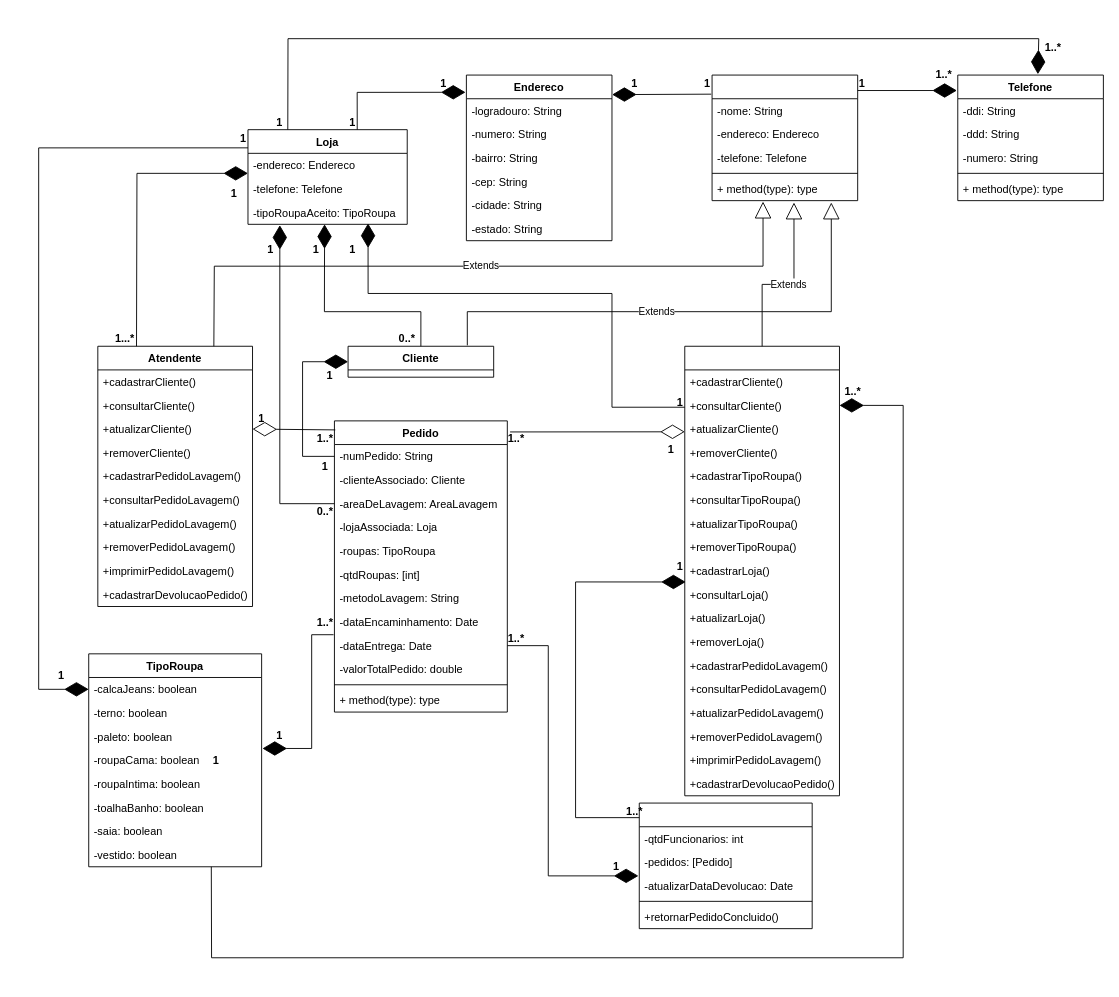
Some shapes in this 1119 by 997 pixel diagram are drawn without their labels. Each missing label, with the box of its shape:
Gerente: (684, 345, 839, 796)
Pessoa: (711, 74, 858, 201)
Área de Lavagem: (638, 802, 812, 929)
